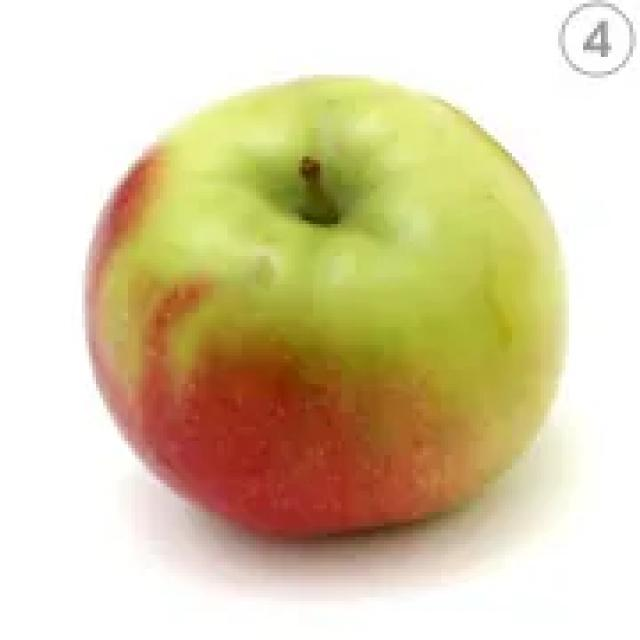Apple: (82, 75, 572, 544)
